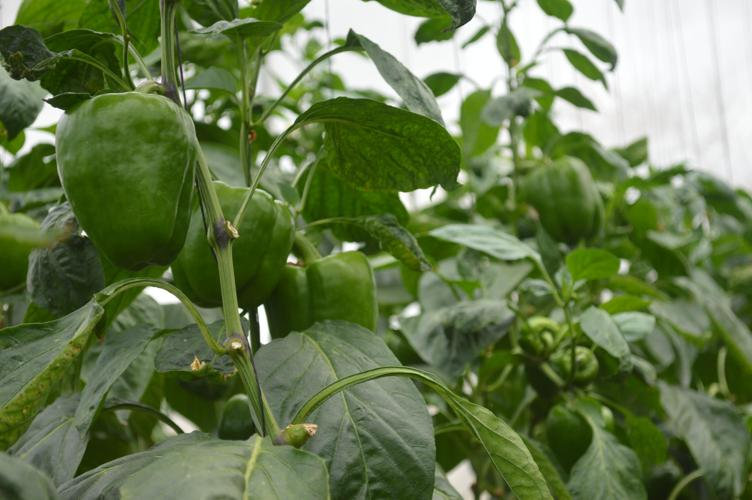BellPepper: (45, 94, 192, 279), (173, 169, 294, 327), (259, 237, 386, 339), (519, 148, 610, 248), (534, 398, 614, 477)
